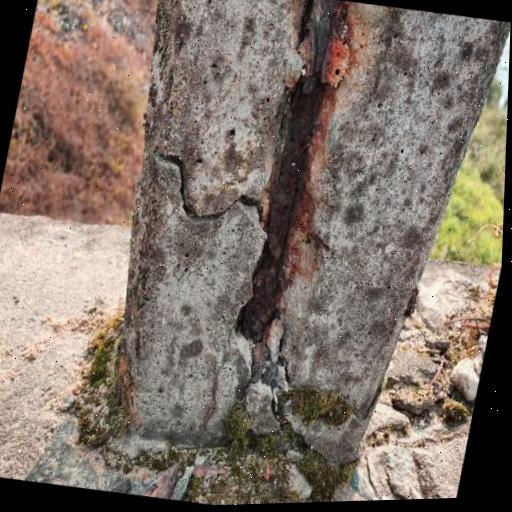exposed_rebar: (241, 0, 338, 340)
